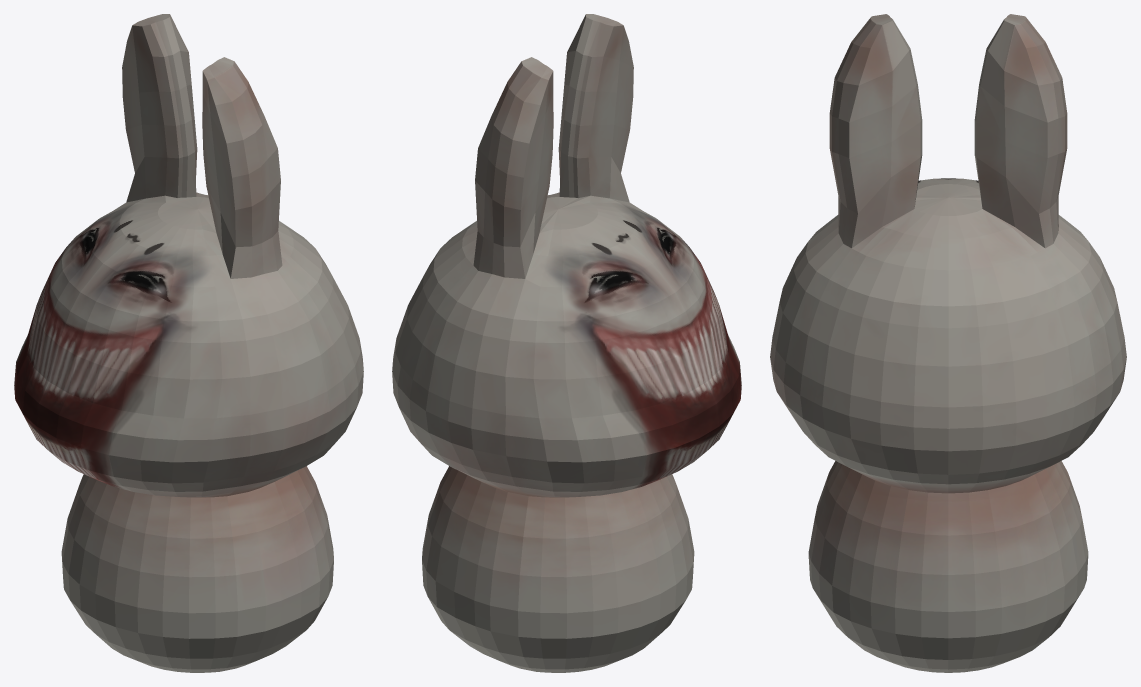
File: hapticos_spooky_bunny.fbx
3 renders of one model, left to right at view 1: azimuth 30°, elevation 25°; view 2: azimuth 150°, elevation 25°; view 3: azimuth 270°, elevation 25°, orthographic. The views are drawn at different scales.
Parts seen in each view (by area): view 1: Conejo Completo; view 2: Conejo Completo; view 3: Conejo Completo.
Boxes of the visible parts, x1,y1,x2,y2 form: Conejo Completo: (14, 14, 363, 672); Conejo Completo: (392, 14, 741, 672); Conejo Completo: (770, 14, 1126, 672).
Bounding box in the file's own units: 172 × 334 × 170.
1 material, 1 textured.
